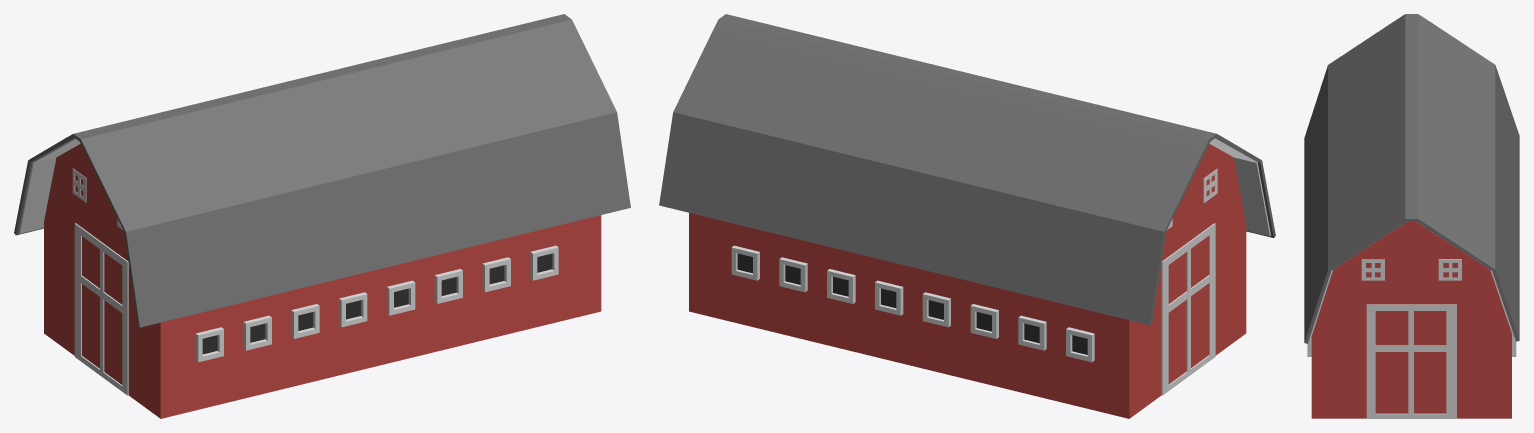
Rendered from barn.glb.
The picture shows the model from 3 angles, left to right: view 1: azimuth 30°, elevation 25°; view 2: azimuth 150°, elevation 25°; view 3: azimuth 270°, elevation 25°; orthographic projection. The views are drawn at different scales.
Visible parts, largest first — view 1: Cube.001_1, Cube_0, Cube.003_3, Cube.005_5, Cube.004_4, Cube.002_2; view 2: Cube.001_1, Cube_0, Cube.003_3, Cube.005_5, Cube.004_4, Cube.002_2; view 3: Cube.001_1, Cube_0, Cube.005_5, Cube.006_6, Cube.007_7, Cube.002_2.
Boxes of the visible parts, x1,y1,x2,y2 form: Cube.001_1: [14, 14, 630, 327]; Cube_0: [44, 144, 601, 418]; Cube.003_3: [195, 245, 558, 362]; Cube.005_5: [74, 223, 128, 395]; Cube.004_4: [202, 253, 552, 354]; Cube.002_2: [19, 138, 80, 233]; Cube.001_1: [659, 14, 1275, 325]; Cube_0: [689, 144, 1246, 418]; Cube.003_3: [731, 245, 1094, 362]; Cube.005_5: [1161, 223, 1215, 395]; Cube.004_4: [737, 253, 1087, 354]; Cube.002_2: [1209, 138, 1270, 236]; Cube.001_1: [1304, 14, 1519, 343]; Cube_0: [1311, 221, 1511, 418]; Cube.005_5: [1366, 304, 1456, 418]; Cube.006_6: [1361, 259, 1384, 280]; Cube.007_7: [1438, 259, 1461, 280]; Cube.002_2: [1309, 224, 1514, 340].
Size of the model in its own units: 25.41 by 12.15 by 11.28.
